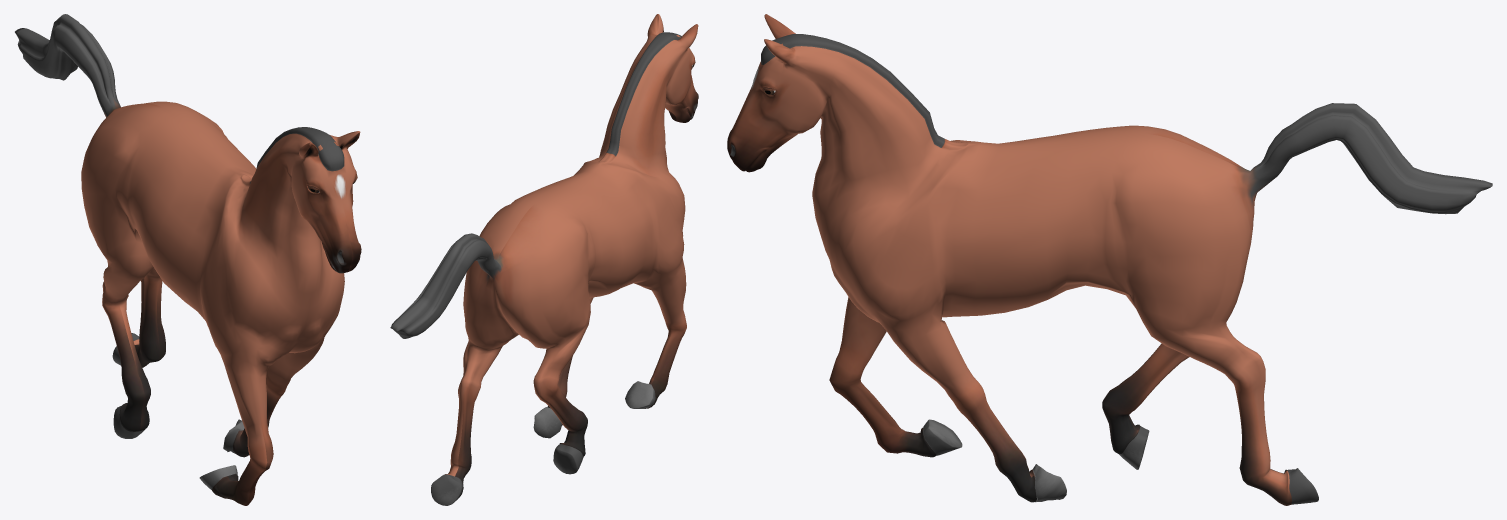
The model's file is horse_obj_3.obj.
The picture shows the model from 3 angles, left to right: view 1: azimuth 30°, elevation 25°; view 2: azimuth 150°, elevation 25°; view 3: azimuth 270°, elevation 25°; orthographic projection. The views are drawn at different scales.
Parts seen in each view (by area): view 1: Figure_1; view 2: Figure_1; view 3: Figure_1.
Boxes of the visible parts, x1,y1,x2,y2 form: Figure_1: [15, 14, 361, 505]; Figure_1: [390, 14, 698, 505]; Figure_1: [727, 14, 1492, 505].
Bounding box in the file's own units: 0.2421 × 0.772 × 1.16.
Materials: 7 (7 with a texture image).
